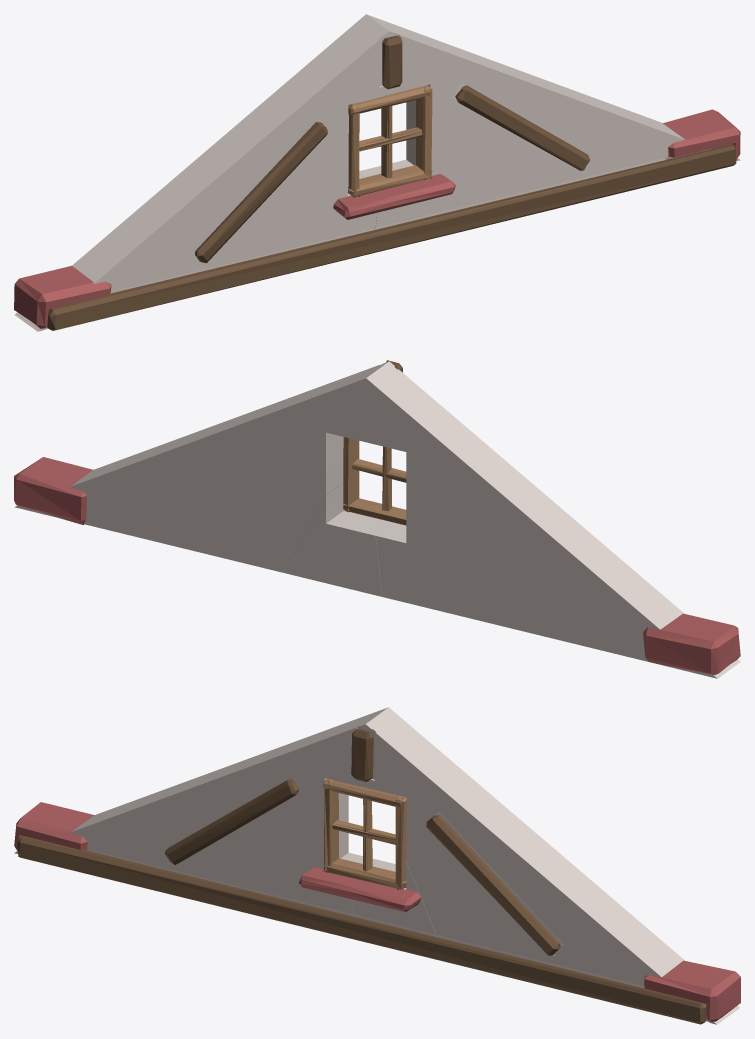
File: PKF_PKX_Gable_4m_Window_v2.fbx
3 renders of one model, top to bottom at view 1: azimuth 30°, elevation 25°; view 2: azimuth 150°, elevation 25°; view 3: azimuth 330°, elevation 25°, orthographic.
Visible parts, largest first — view 1: PKX_Gable_4m_Window_Chunk_12, PKX_Gable_4m_Window_Chunk_03, PKX_Gable_4m_Window_Chunk_04, PKX_Gable_4m_Window_Chunk_11, PKX_Gable_4m_Window_Chunk_10, PKX_Gable_4m_Window_Chunk_06, PKX_Gable_4m_Window_Chunk_09, PKX_Gable_4m_Window_Chunk_08, PKX_Gable_4m_Window_Chunk_07, PKX_Gable_4m_Window_Chunk_05, PKX_Gable_4m_Window_Chunk_02, PKX_Gable_4m_Window_Chunk_01 (+10 smaller); view 2: PKX_Gable_4m_Window_Chunk_03, PKX_Gable_4m_Window_Chunk_04, PKX_Gable_4m_Window_Chunk_11, PKX_Gable_4m_Window_Chunk_10, PKX_Gable_4m_Window_Chunk_09, PKX_Gable_4m_Window_Chunk_06, PKX_Gable_4m_Window_Chunk_02, PKX_Gable_4m_Window_Chunk_08, PKX_Gable_4m_Window_Chunk_05, PKX_Gable_4m_Window_Chunk_01, PKX_Gable_4m_Window_Chunk_07, PKX_Gable_4m_Window_Chunk_00 (+4 smaller); view 3: PKX_Gable_4m_Window_Chunk_12, PKX_Gable_4m_Window_Chunk_04, PKX_Gable_4m_Window_Chunk_10, PKX_Gable_4m_Window_Chunk_03, PKX_Gable_4m_Window_Chunk_08, PKX_Gable_4m_Window_Chunk_11, PKX_Gable_4m_Window_Chunk_09, PKX_Gable_4m_Window_Chunk_05, PKX_Gable_4m_Window_Chunk_06, PKX_Gable_4m_Window_Chunk_07, PKX_Gable_4m_Window_Chunk_02, PKX_Gable_4m_Window_Chunk_15 (+10 smaller).
Part boxes in pixels (x1,y1,x2,y2): PKX_Gable_4m_Window_Chunk_12: [47, 144, 736, 330]; PKX_Gable_4m_Window_Chunk_03: [14, 186, 237, 331]; PKX_Gable_4m_Window_Chunk_04: [545, 80, 740, 185]; PKX_Gable_4m_Window_Chunk_11: [271, 14, 395, 149]; PKX_Gable_4m_Window_Chunk_10: [374, 17, 506, 127]; PKX_Gable_4m_Window_Chunk_06: [165, 140, 270, 262]; PKX_Gable_4m_Window_Chunk_09: [219, 96, 338, 199]; PKX_Gable_4m_Window_Chunk_08: [484, 57, 569, 160]; PKX_Gable_4m_Window_Chunk_07: [406, 110, 496, 207]; PKX_Gable_4m_Window_Chunk_05: [305, 148, 391, 241]; PKX_Gable_4m_Window_Chunk_02: [359, 138, 459, 229]; PKX_Gable_4m_Window_Chunk_01: [243, 195, 325, 261]; PKX_Gable_4m_Window_Chunk_03: [513, 533, 740, 678]; PKX_Gable_4m_Window_Chunk_04: [14, 428, 209, 549]; PKX_Gable_4m_Window_Chunk_11: [359, 361, 484, 496]; PKX_Gable_4m_Window_Chunk_10: [248, 364, 380, 475]; PKX_Gable_4m_Window_Chunk_09: [417, 443, 535, 546]; PKX_Gable_4m_Window_Chunk_06: [484, 487, 589, 614]; PKX_Gable_4m_Window_Chunk_02: [295, 484, 393, 596]; PKX_Gable_4m_Window_Chunk_08: [186, 405, 270, 507]; PKX_Gable_4m_Window_Chunk_05: [376, 495, 449, 606]; PKX_Gable_4m_Window_Chunk_01: [421, 542, 513, 628]; PKX_Gable_4m_Window_Chunk_07: [259, 450, 343, 555]; PKX_Gable_4m_Window_Chunk_00: [190, 506, 300, 576]; PKX_Gable_4m_Window_Chunk_12: [17, 836, 706, 1024]; PKX_Gable_4m_Window_Chunk_04: [521, 861, 740, 1024]; PKX_Gable_4m_Window_Chunk_10: [371, 713, 506, 843]; PKX_Gable_4m_Window_Chunk_03: [14, 781, 215, 882]; PKX_Gable_4m_Window_Chunk_08: [467, 808, 568, 929]; PKX_Gable_4m_Window_Chunk_11: [270, 707, 395, 820]; PKX_Gable_4m_Window_Chunk_09: [219, 742, 314, 847]; PKX_Gable_4m_Window_Chunk_05: [281, 804, 378, 916]; PKX_Gable_4m_Window_Chunk_06: [165, 761, 247, 883]; PKX_Gable_4m_Window_Chunk_07: [406, 841, 472, 935]; PKX_Gable_4m_Window_Chunk_02: [342, 860, 437, 937]; PKX_Gable_4m_Window_Chunk_15: [426, 815, 560, 955].
Bounding box in the file's own units: 421 × 123 × 40.64.
